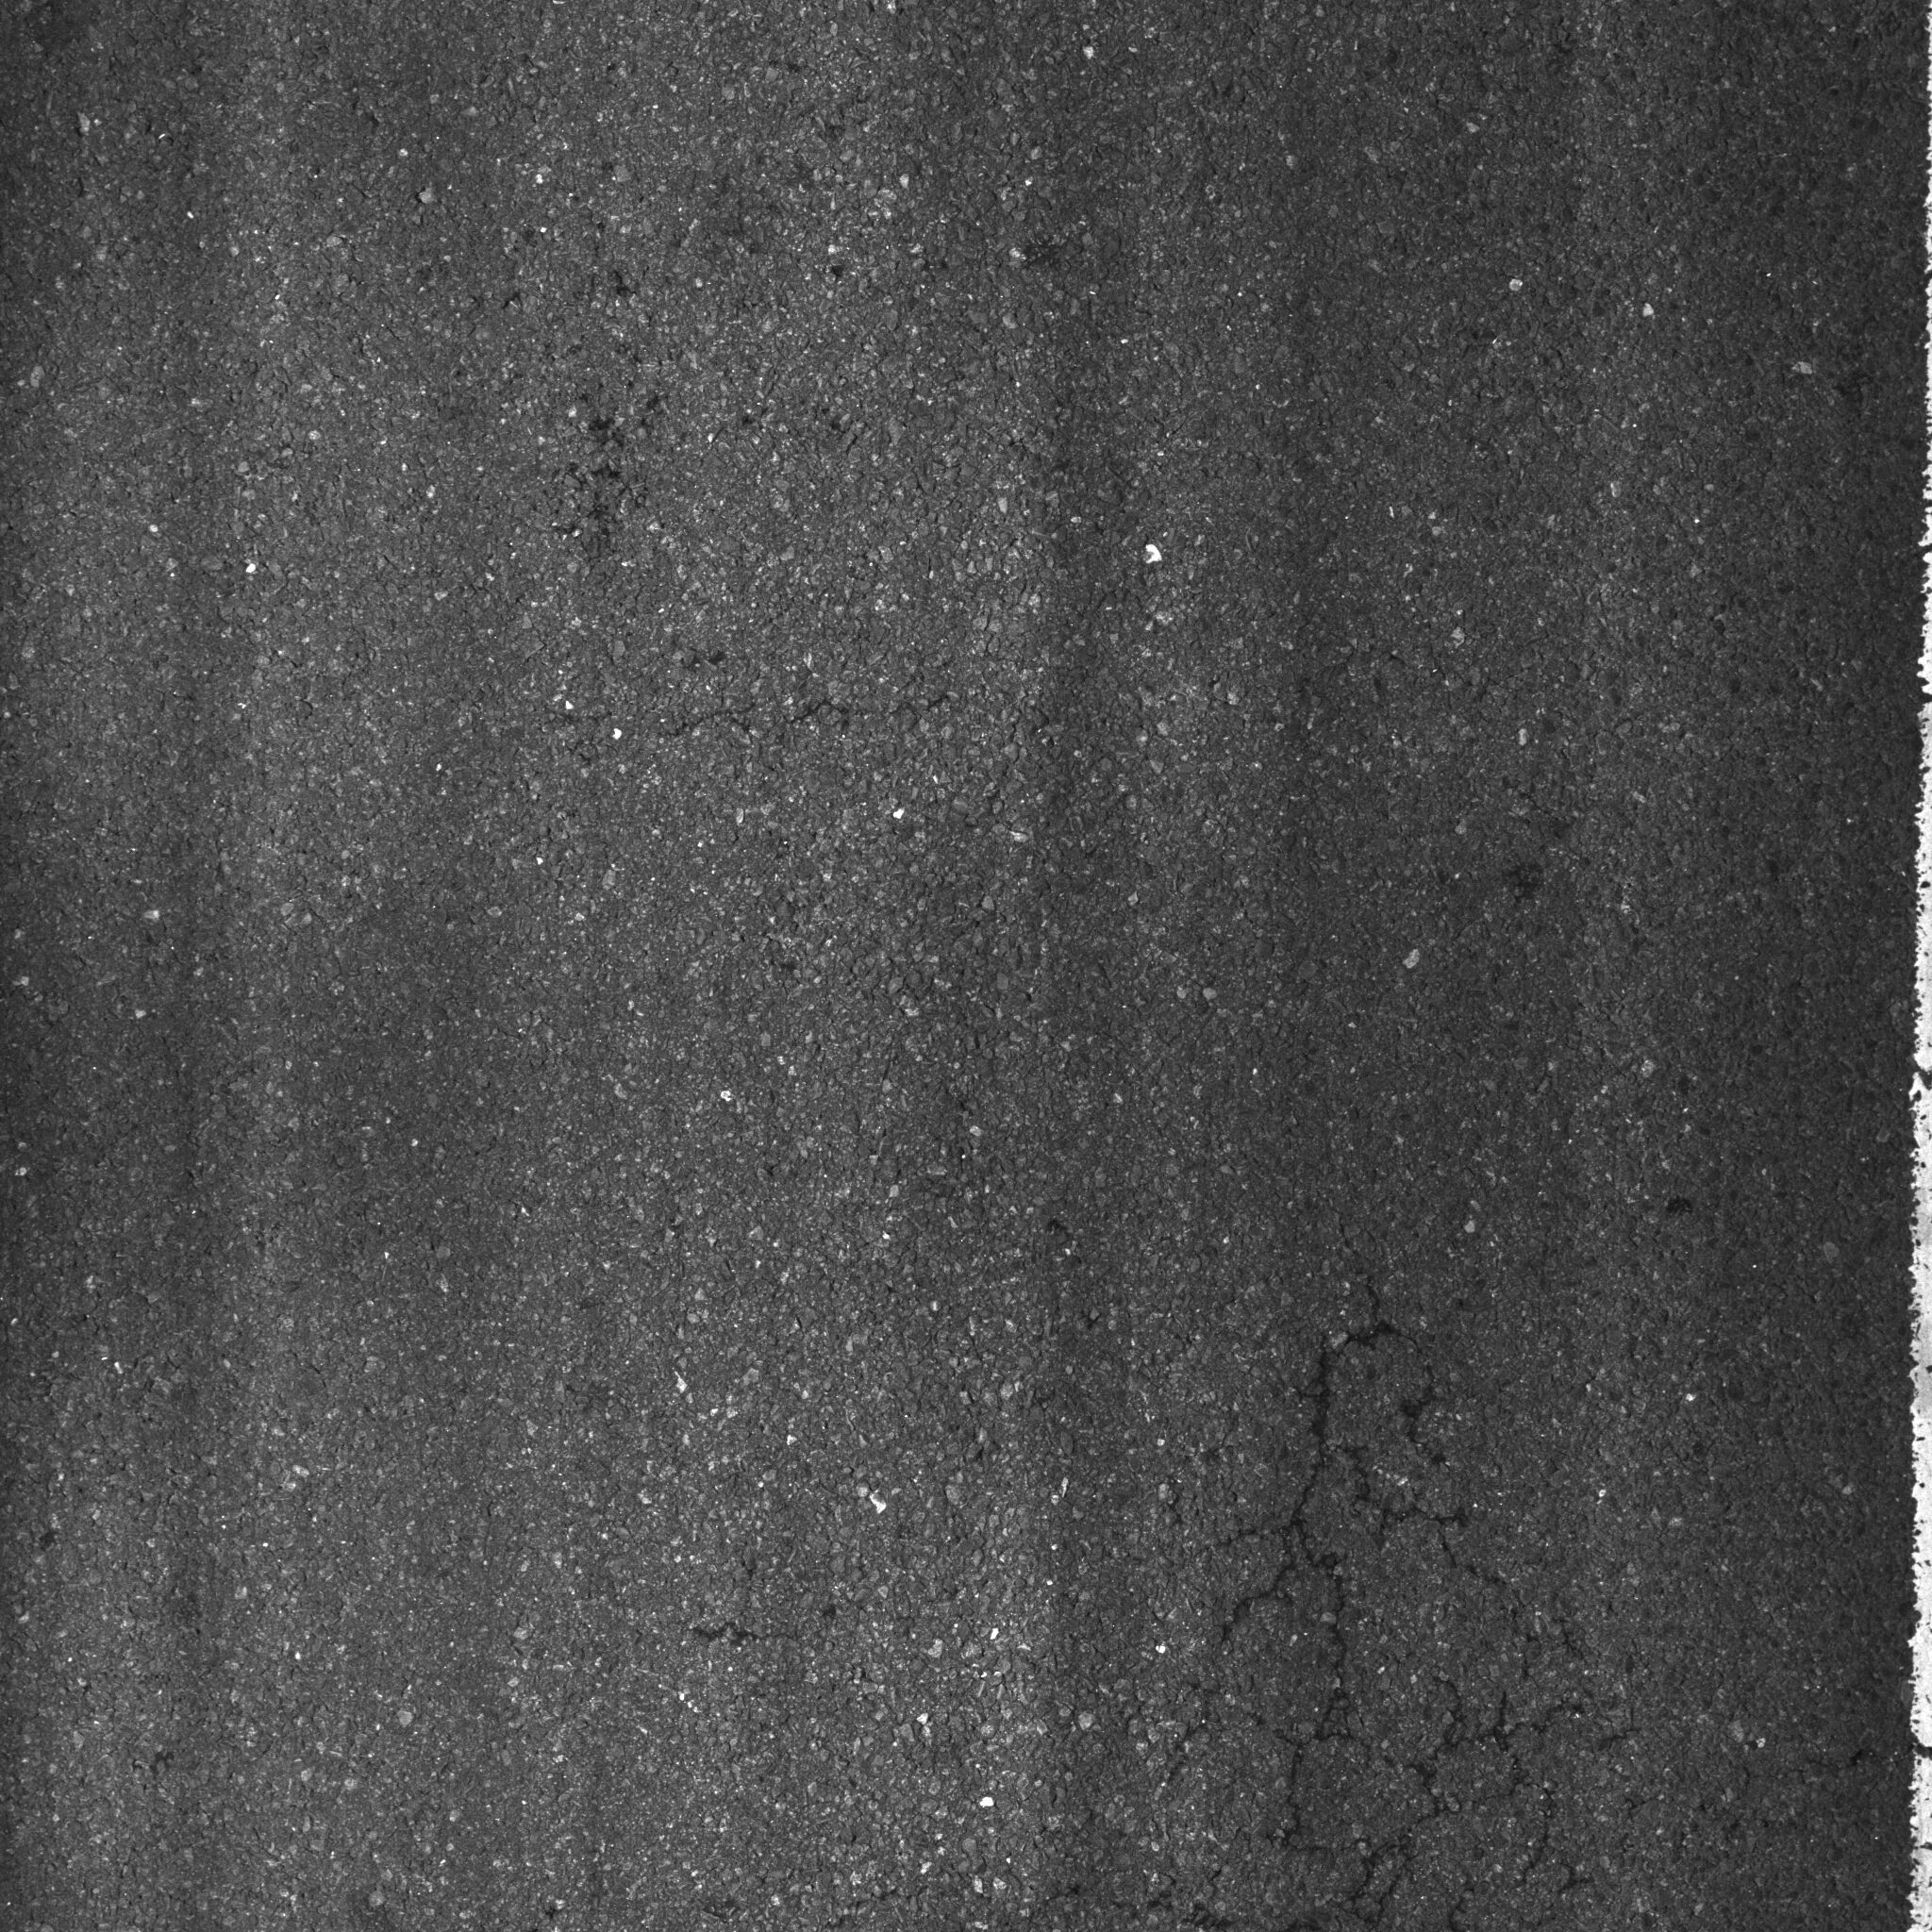alligator: (1129, 1276, 1668, 1928)
